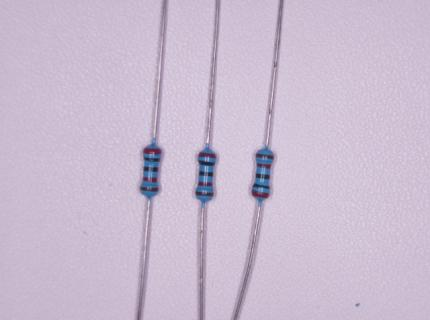Black band: (251, 183, 270, 189), (256, 173, 270, 180), (199, 160, 215, 166), (144, 166, 158, 172), (143, 158, 160, 162), (200, 172, 213, 176)
Brown band: (256, 154, 274, 159), (195, 192, 213, 196), (141, 188, 158, 192)
Red band: (252, 190, 269, 198), (198, 153, 216, 158), (143, 149, 161, 153), (257, 164, 271, 169), (144, 177, 157, 182), (198, 182, 212, 186)
